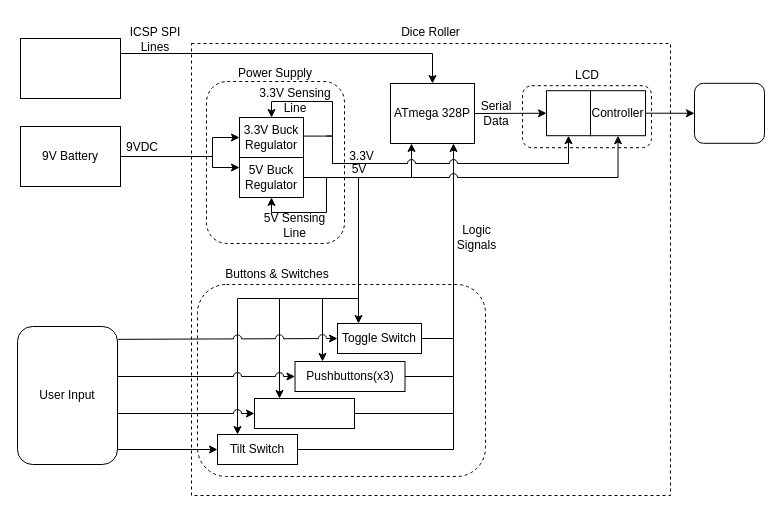
Image size: 782x513. Some labels were removed from this diagram. The centre of each missing label's shape, as x and y in pixels:
"3.3V Logic Shifter" goes at point (568, 113).
"In-Circuit Serial Programmer" goes at point (70, 68).
"Rotary Switch" goes at point (304, 413).
"User Feedback" goes at point (729, 112).
